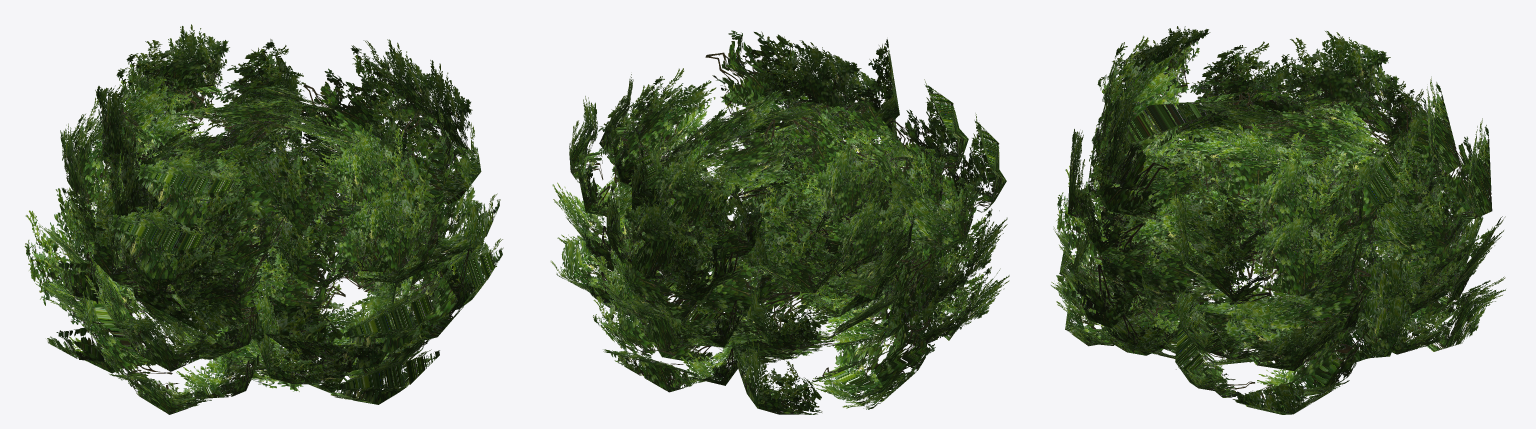
Rendered from other.fbx.
3 renders of one model, left to right at view 1: azimuth 30°, elevation 25°; view 2: azimuth 150°, elevation 25°; view 3: azimuth 270°, elevation 25°, orthographic. The views are drawn at different scales.
Parts seen in each view (by area): view 1: bush.014; view 2: bush.014; view 3: bush.014.
Part boxes in pixels (box(x1,y1,x2,y2)): bush.014: box(24, 24, 503, 414); bush.014: box(550, 30, 1009, 414); bush.014: box(1051, 26, 1505, 414).
Bounding box in the file's own units: 7.01 × 4.79 × 6.76.
Materials: 1 (1 with a texture image).
